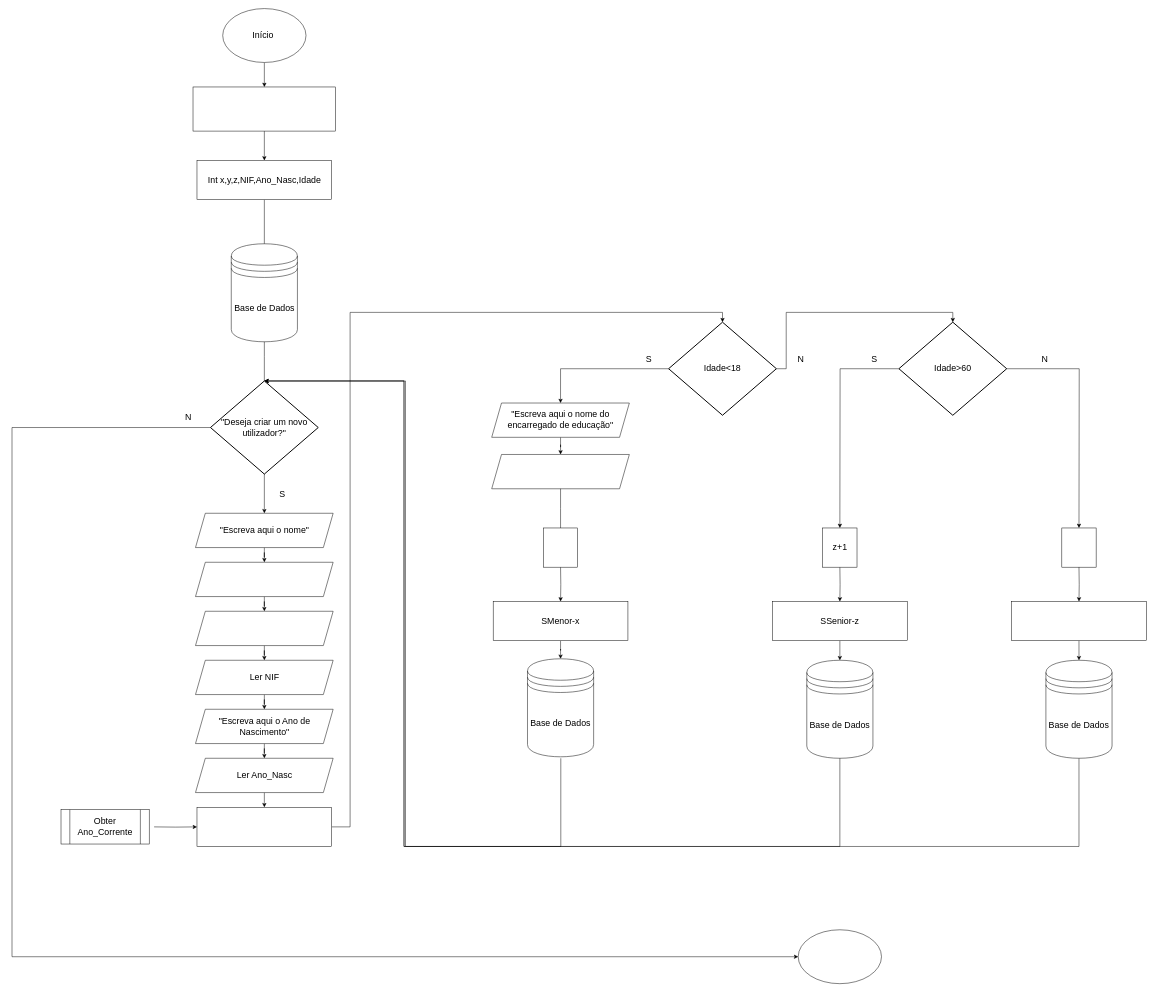
The diagram is 1155 pixels wide and 992 high, and some of its shapes have lost their labels. Here are the shapes that lost their labels. From the top down, the centre of each, then its label:
[264,108]: String Nome,SMenor-,SAdulto-,SSenior-, Enc_Educa
[560,471]: ler Enc_Educa
[560,547]: x+1
[1078,547]: y+1
[264,579]: Ler Nome
[264,628]: "Escreva aqui o NIF"
[1078,621]: SAdulto-y
[264,826]: Idade=Ano_Corrente-Ano_Nasc
[840,956]: FIM
